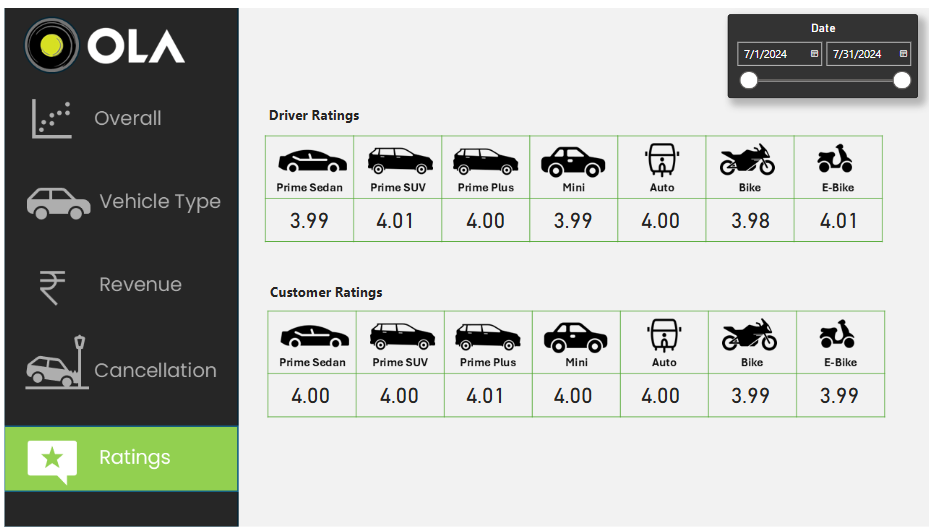

The page's visual inventory and layout, read from the dashboard file:
{"tool":"powerbi","page":{"name":"Ratings","canvas":[1280,720],"ordinal":4},"visuals":[{"type":"actionButton","box":[0,213.5,324.5,89.3],"z":0},{"type":"actionButton","box":[0,340.2,324.5,89.3],"z":1000},{"type":"actionButton","box":[0,447.6,324.5,97.7],"z":2000},{"type":"actionButton","box":[0,114.6,324.5,89.3],"z":3000}]}

Visuals, with their boxes in screenshot pixels (x1, y1, x2, y2), scaled from the page's 1280x720 canvas onto the 942x531 screenshot:
actionButton: bbox=[0, 157, 239, 223]
actionButton: bbox=[0, 251, 239, 317]
actionButton: bbox=[0, 330, 239, 402]
actionButton: bbox=[0, 85, 239, 150]
